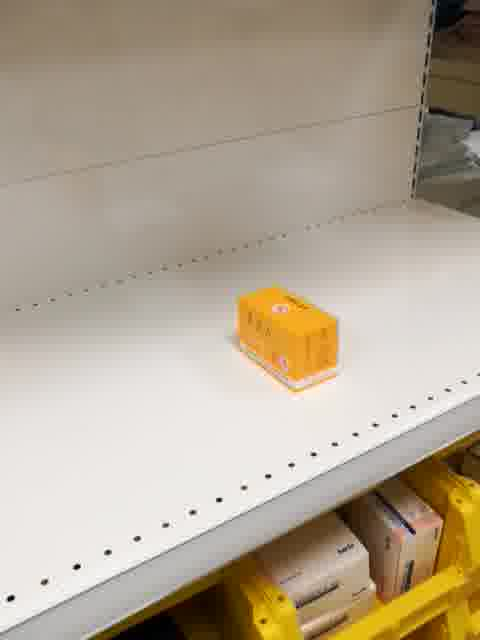jasminetea: (237, 287, 340, 394)
